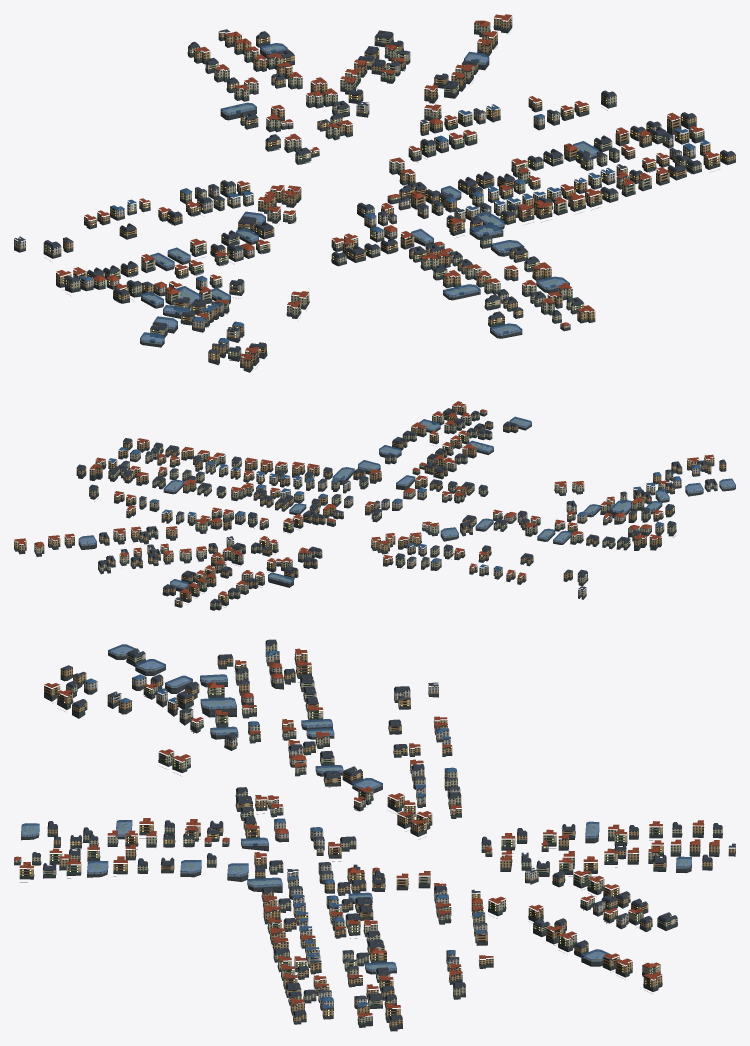
The model's file is osm_buildings_T_E02_N02_Q3.glb.
The picture shows the model from 3 angles, top to bottom: view 1: azimuth 30°, elevation 25°; view 2: azimuth 150°, elevation 25°; view 3: azimuth 270°, elevation 25°; orthographic projection. The views are drawn at different scales.
Parts seen in each view (by area): view 1: OSM_T_E02_N02_Q3_foundation, OSM_T_E02_N02_Q3_wall_french_ochre, OSM_T_E02_N02_Q3_wall_cream_stucco, OSM_T_E02_N02_Q3_roof_terracotta, OSM_T_E02_N02_Q3_roof_mansard_slate, OSM_T_E02_N02_Q3_greenhouse_blend, OSM_T_E02_N02_Q3_roof_mansard_deck, OSM_T_E02_N02_Q3_wall_pastel_sand, OSM_T_E02_N02_Q3_roof_mint_metal, OSM_T_E02_N02_Q3_wall_warm_white, OSM_T_E02_N02_Q3_trim_cornice, OSM_T_E02_N02_Q3_roof_alpine_blue (+3 smaller); view 2: OSM_T_E02_N02_Q3_foundation, OSM_T_E02_N02_Q3_wall_french_ochre, OSM_T_E02_N02_Q3_wall_cream_stucco, OSM_T_E02_N02_Q3_roof_terracotta, OSM_T_E02_N02_Q3_roof_mansard_slate, OSM_T_E02_N02_Q3_greenhouse_blend, OSM_T_E02_N02_Q3_roof_mansard_deck, OSM_T_E02_N02_Q3_wall_pastel_sand, OSM_T_E02_N02_Q3_trim_cornice, OSM_T_E02_N02_Q3_roof_mint_metal, OSM_T_E02_N02_Q3_wall_warm_white, OSM_T_E02_N02_Q3_roof_alpine_blue (+2 smaller); view 3: OSM_T_E02_N02_Q3_foundation, OSM_T_E02_N02_Q3_wall_french_ochre, OSM_T_E02_N02_Q3_wall_cream_stucco, OSM_T_E02_N02_Q3_roof_terracotta, OSM_T_E02_N02_Q3_roof_mansard_slate, OSM_T_E02_N02_Q3_greenhouse_blend, OSM_T_E02_N02_Q3_roof_mansard_deck, OSM_T_E02_N02_Q3_wall_warm_white, OSM_T_E02_N02_Q3_wall_pastel_sand, OSM_T_E02_N02_Q3_trim_cornice, OSM_T_E02_N02_Q3_roof_mint_metal, OSM_T_E02_N02_Q3_roof_alpine_blue (+2 smaller).
Boxes of the visible parts, left/top/right/bottom form: OSM_T_E02_N02_Q3_foundation: left=14, top=24, right=735, bottom=372; OSM_T_E02_N02_Q3_wall_french_ochre: left=56, top=16, right=735, bottom=368; OSM_T_E02_N02_Q3_wall_cream_stucco: left=65, top=23, right=704, bottom=356; OSM_T_E02_N02_Q3_roof_terracotta: left=56, top=14, right=719, bottom=359; OSM_T_E02_N02_Q3_roof_mansard_slate: left=14, top=29, right=735, bottom=353; OSM_T_E02_N02_Q3_greenhouse_blend: left=140, top=43, right=598, bottom=344; OSM_T_E02_N02_Q3_roof_mansard_deck: left=45, top=30, right=733, bottom=349; OSM_T_E02_N02_Q3_wall_pastel_sand: left=14, top=103, right=681, bottom=338; OSM_T_E02_N02_Q3_roof_mint_metal: left=44, top=25, right=735, bottom=368; OSM_T_E02_N02_Q3_wall_warm_white: left=43, top=52, right=695, bottom=349; OSM_T_E02_N02_Q3_trim_cornice: left=14, top=18, right=735, bottom=365; OSM_T_E02_N02_Q3_roof_alpine_blue: left=79, top=104, right=710, bottom=342; OSM_T_E02_N02_Q3_foundation: left=14, top=412, right=735, bottom=610; OSM_T_E02_N02_Q3_wall_french_ochre: left=14, top=406, right=726, bottom=605; OSM_T_E02_N02_Q3_wall_cream_stucco: left=34, top=411, right=717, bottom=607; OSM_T_E02_N02_Q3_roof_terracotta: left=14, top=401, right=713, bottom=596; OSM_T_E02_N02_Q3_roof_mansard_slate: left=77, top=409, right=725, bottom=603; OSM_T_E02_N02_Q3_greenhouse_blend: left=78, top=416, right=735, bottom=588; OSM_T_E02_N02_Q3_roof_mansard_deck: left=78, top=408, right=735, bottom=601; OSM_T_E02_N02_Q3_wall_pastel_sand: left=139, top=453, right=681, bottom=596; OSM_T_E02_N02_Q3_trim_cornice: left=15, top=406, right=725, bottom=607; OSM_T_E02_N02_Q3_roof_mint_metal: left=15, top=412, right=716, bottom=607; OSM_T_E02_N02_Q3_wall_warm_white: left=120, top=411, right=700, bottom=583; OSM_T_E02_N02_Q3_roof_alpine_blue: left=109, top=447, right=699, bottom=570; OSM_T_E02_N02_Q3_foundation: left=14, top=652, right=735, bottom=1031; OSM_T_E02_N02_Q3_wall_french_ochre: left=19, top=651, right=735, bottom=1026; OSM_T_E02_N02_Q3_wall_cream_stucco: left=32, top=643, right=722, bottom=1023; OSM_T_E02_N02_Q3_roof_terracotta: left=14, top=648, right=719, bottom=1017; OSM_T_E02_N02_Q3_roof_mansard_slate: left=32, top=640, right=735, bottom=1021; OSM_T_E02_N02_Q3_greenhouse_blend: left=21, top=644, right=691, bottom=971; OSM_T_E02_N02_Q3_roof_mansard_deck: left=21, top=639, right=721, bottom=1018; OSM_T_E02_N02_Q3_wall_warm_white: left=14, top=652, right=628, bottom=1007; OSM_T_E02_N02_Q3_wall_pastel_sand: left=107, top=677, right=548, bottom=1000; OSM_T_E02_N02_Q3_trim_cornice: left=20, top=643, right=718, bottom=1023; OSM_T_E02_N02_Q3_roof_mint_metal: left=20, top=659, right=722, bottom=1026; OSM_T_E02_N02_Q3_roof_alpine_blue: left=84, top=651, right=487, bottom=1008.
Size of the model in its own units: 964 by 81.57 by 884.
Materials: 16 (16 with a texture image).
